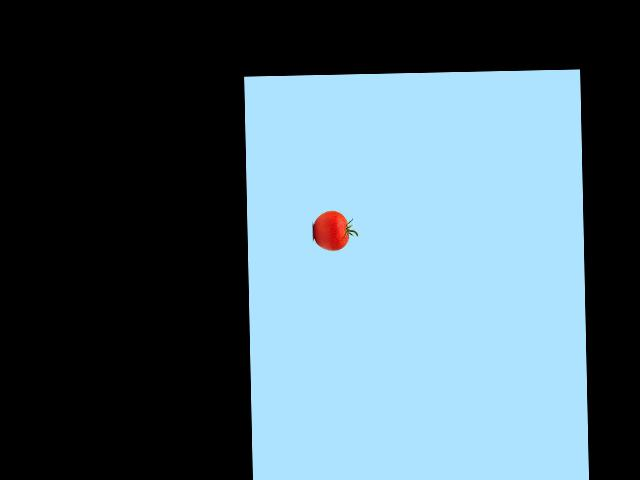tomato: (313, 210, 348, 250)
